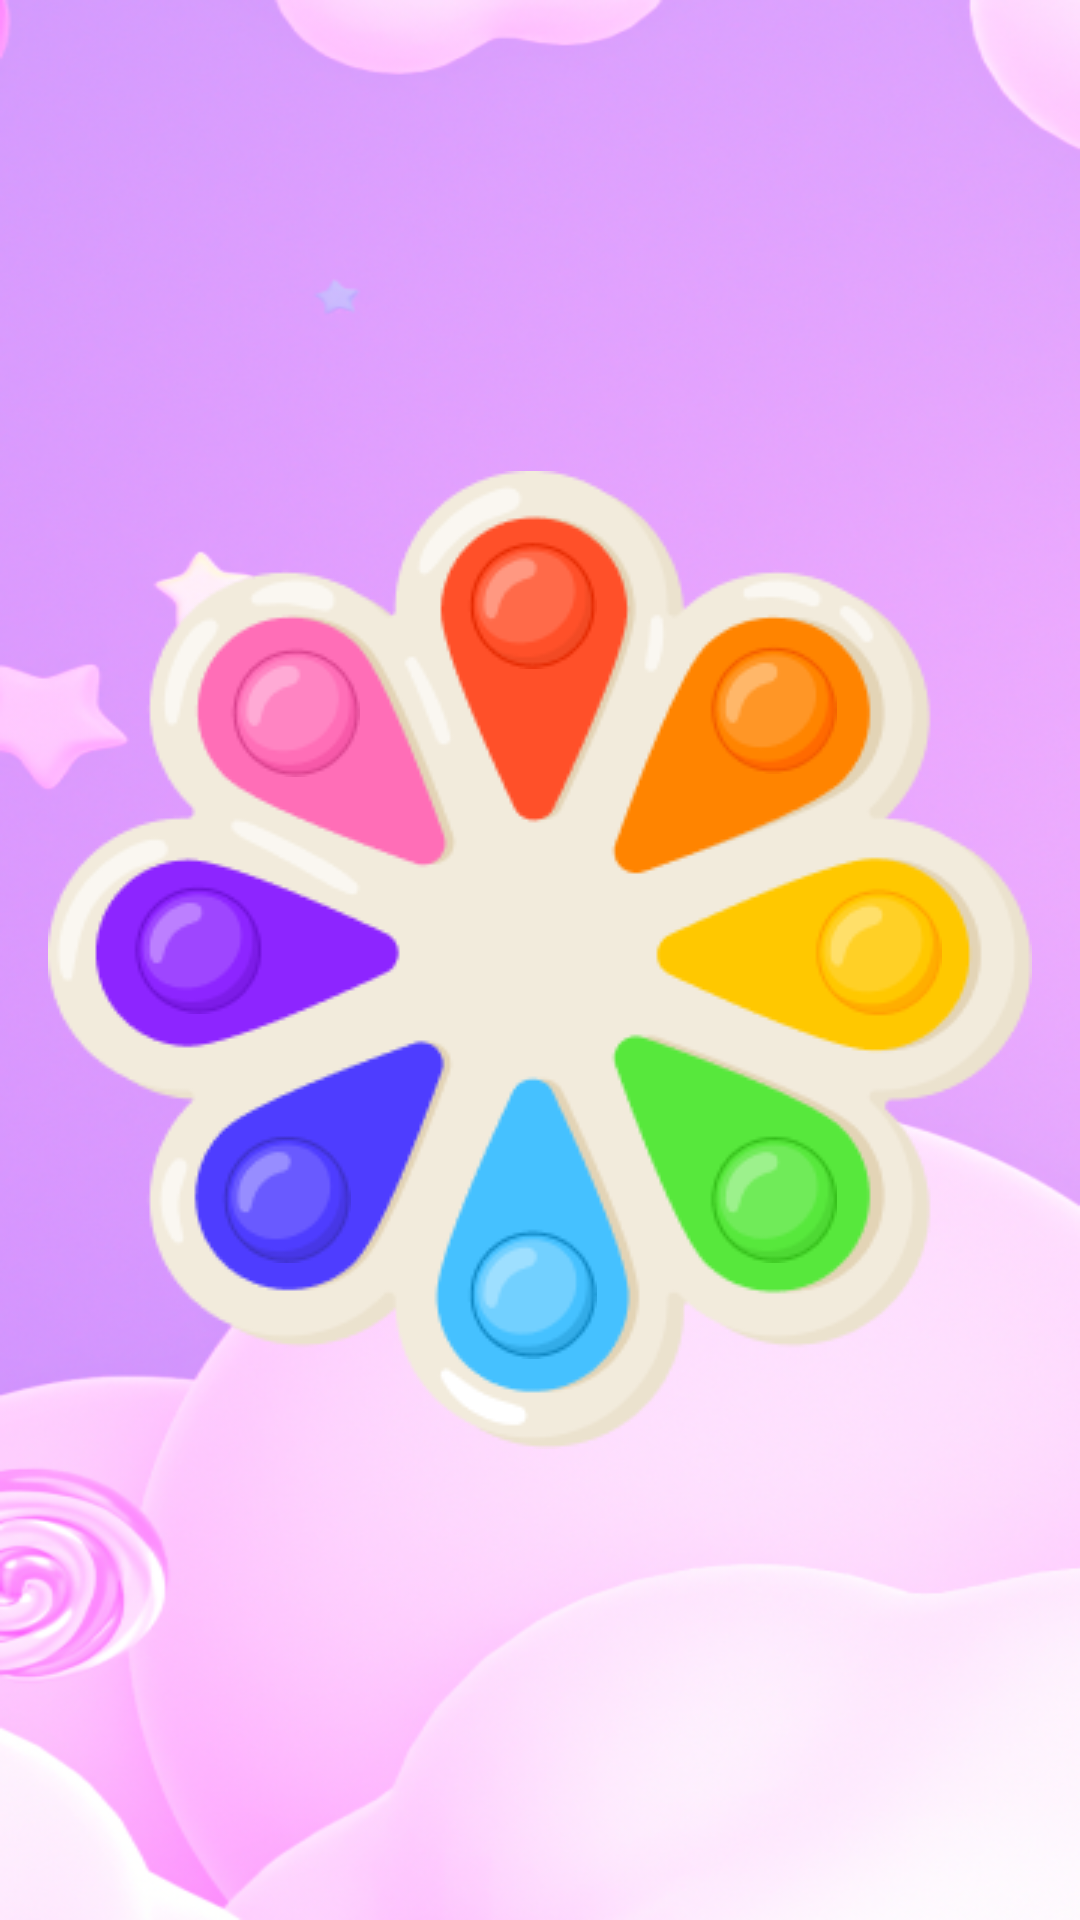

Named icons in this screenshot (1080 × 1920) and their bounding boxes, (x1, y1, x2, y2):
indigo: (224, 1137, 351, 1263)
